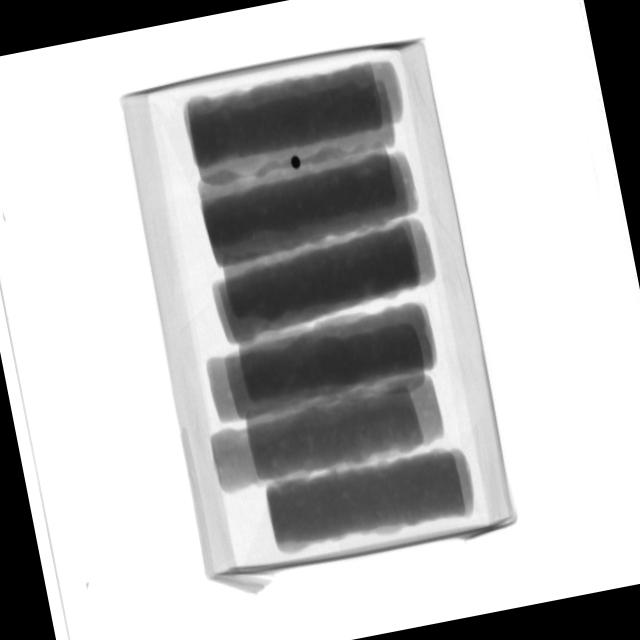ym: (290, 156, 303, 173)
